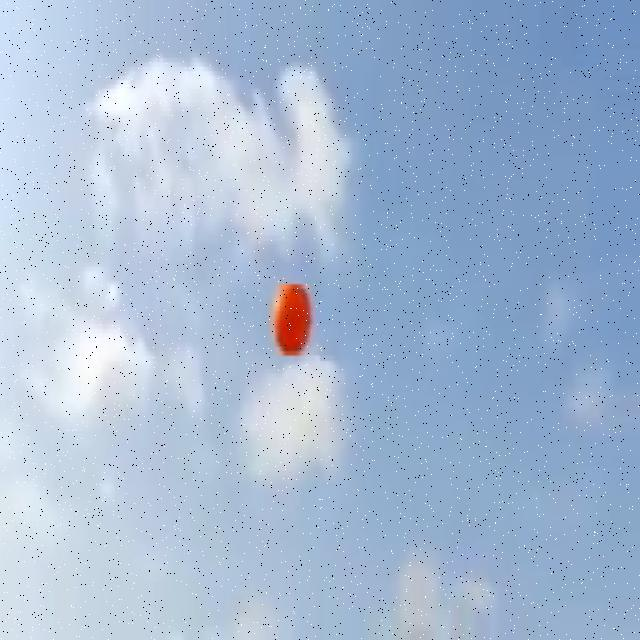red: (271, 282, 312, 356)
